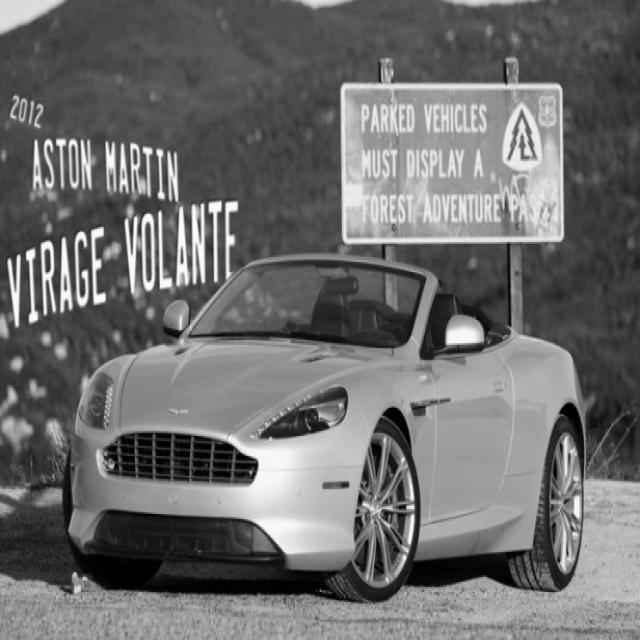car: (61, 251, 587, 604)
plat_license: (340, 76, 564, 244)
